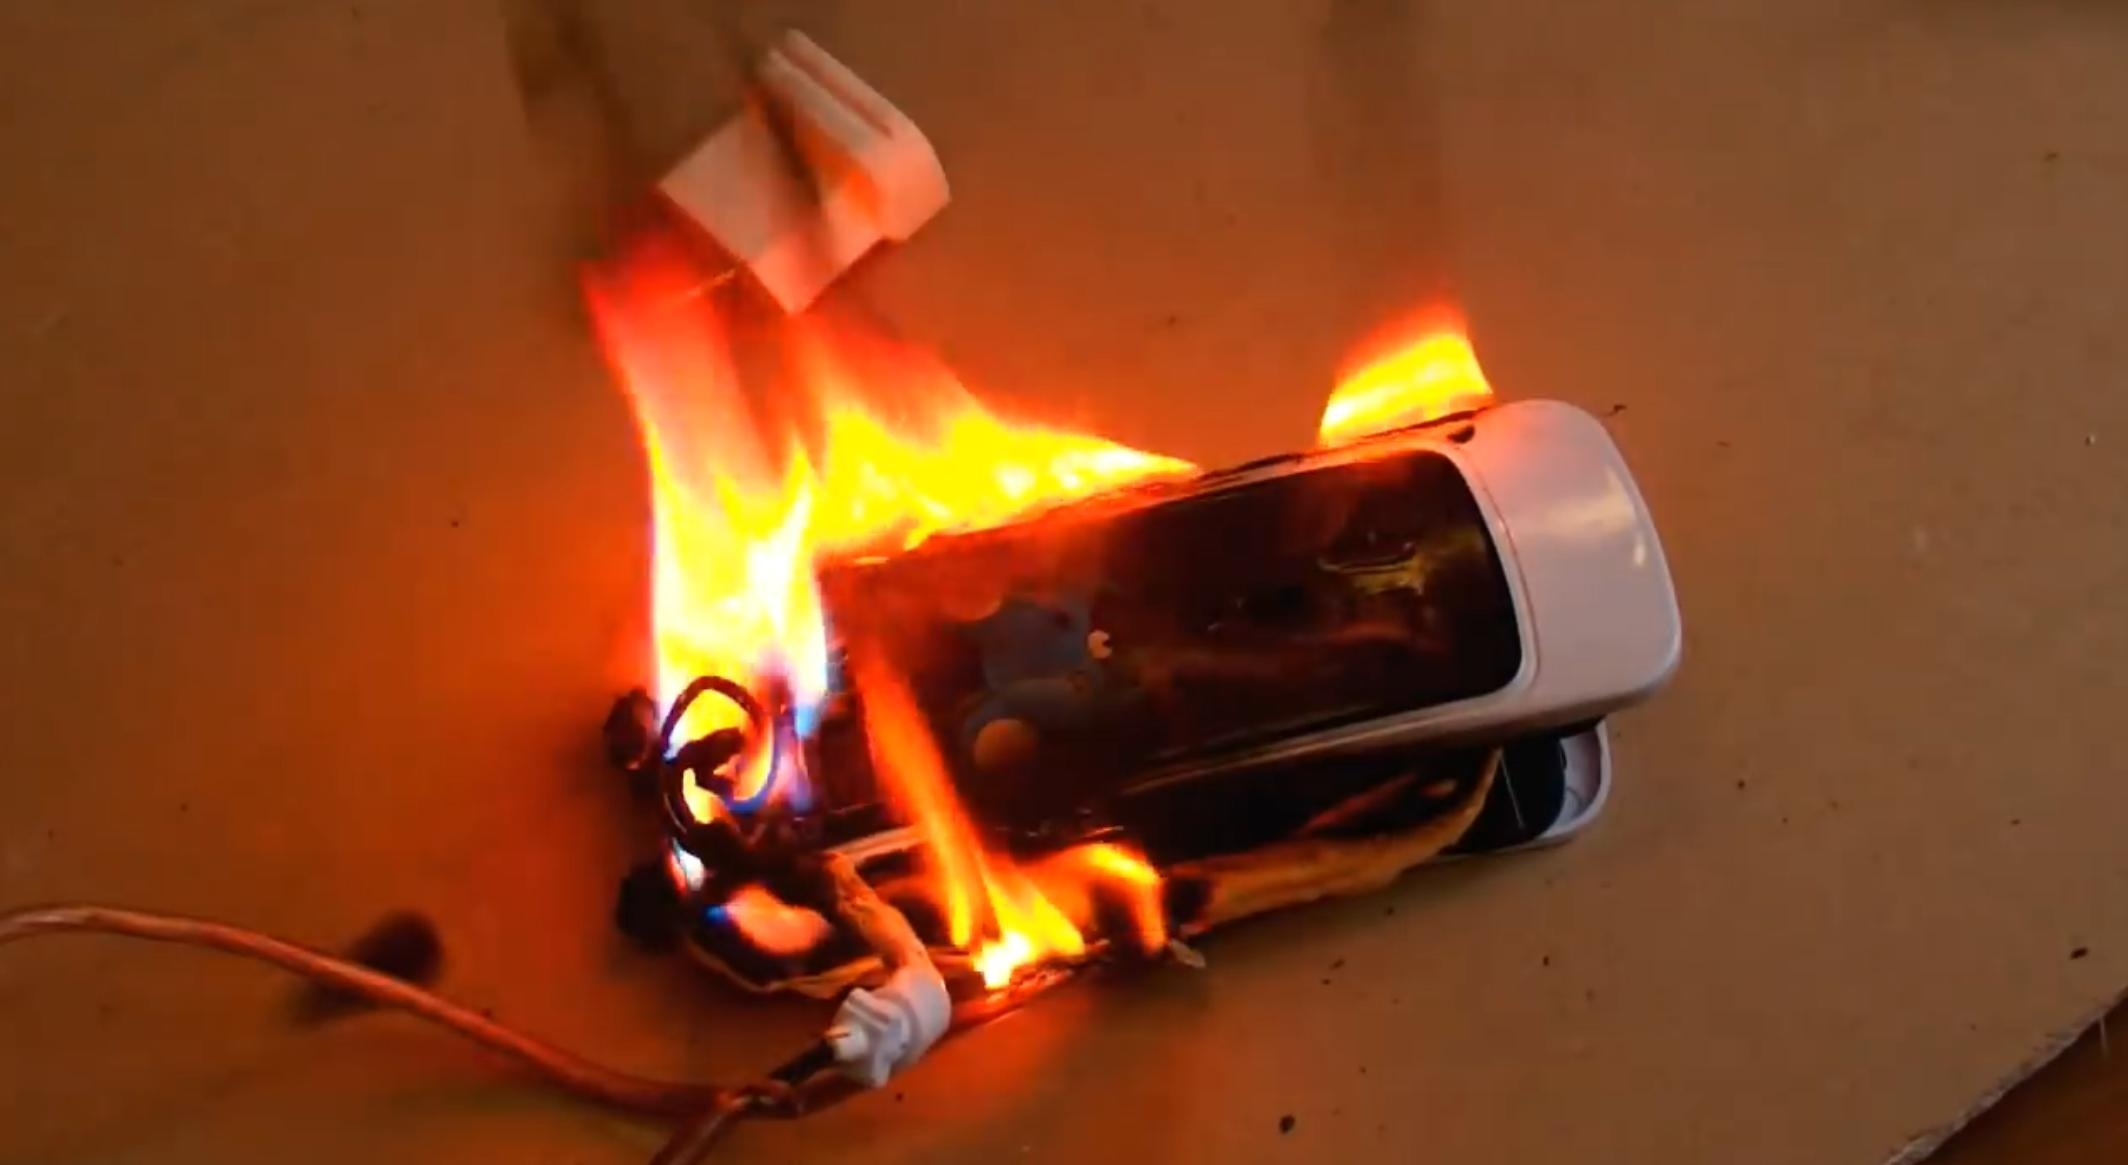fire: (599, 179, 1182, 953)
